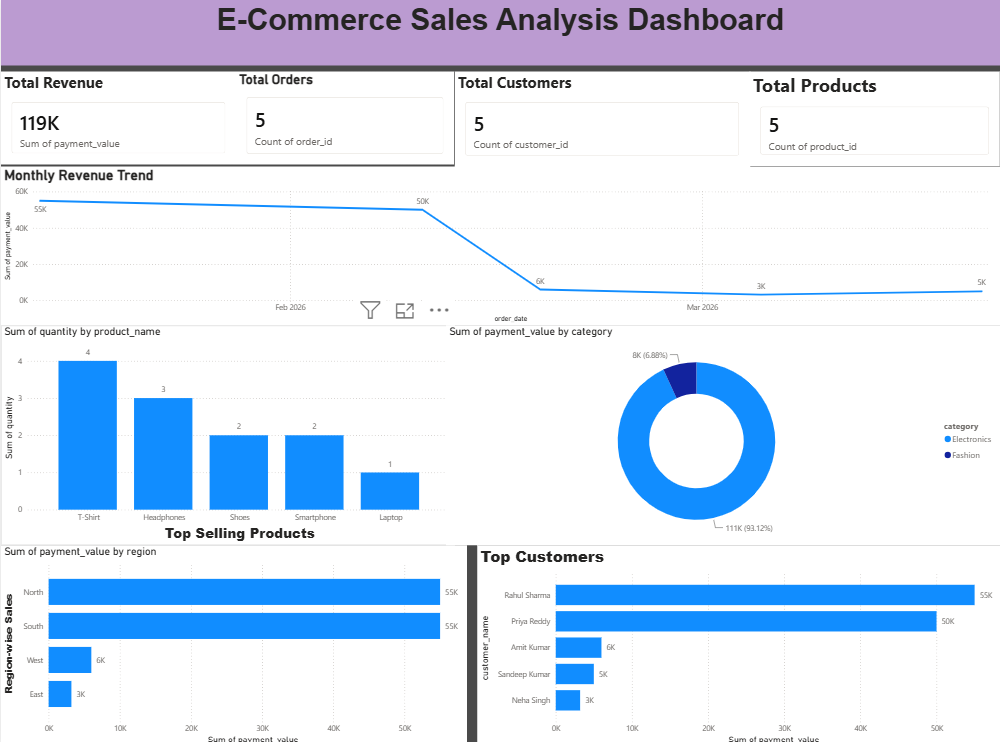

Layout of this report page (visuals, bound fields, positions):
{"tool":"powerbi","page":{"name":"DashBoard","canvas":[1600,1200],"ordinal":0},"visuals":[{"type":"lineChart","title":"Monthly Revenue Trend","fields":{"Category":["dashboard_data.order_date"],"Y":["Sum(dashboard_data.payment_value)"]},"box":[0,267.8,1600,254.2],"z":0},{"type":"cardVisual","title":"Total Revenue","fields":{"Data":["Sum(dashboard_data.payment_value)"]},"box":[0,116.6,376,148.8],"z":1000},{"type":"clusteredColumnChart","fields":{"Category":["dashboard_data.product_name"],"Y":["Sum(dashboard_data.quantity)"]},"box":[0,522.8,725.9,351.9],"z":2000},{"type":"donutChart","fields":{"Category":["dashboard_data.category"],"Y":["Sum(dashboard_data.payment_value)"]},"box":[711.8,522.8,886.7,351.9],"z":3000},{"type":"cardVisual","title":"Total Orders","fields":{"Data":["CountNonNull(dashboard_data.order_id)"]},"box":[376.3,116.9,349.2,149.2],"z":4000},{"type":"cardVisual","title":"Total Customers","fields":{"Data":["Count(dashboard_data.customer_id)"]},"box":[725.9,116.6,472.5,152.8],"z":5000},{"type":"cardVisual","title":"Total Products","fields":{"Data":["Count(dashboard_data.product_id)"]},"box":[1198.4,116.6,400.1,150.8],"z":6000},{"type":"clusteredBarChart","title":"Top Customers","fields":{"Category":["dashboard_data.customer_name"],"Y":["Sum(dashboard_data.payment_value)"]},"box":[761,874.6,839,325.4],"z":7000},{"type":"barChart","fields":{"Category":["dashboard_data.region"],"Y":["Sum(dashboard_data.payment_value)"]},"box":[0,874.6,745.8,325.4],"z":8000},{"type":"textbox","box":[0,0,1598.5,106.6],"z":8001}]}

Visuals, with their boxes in screenshot pixels (x1, y1, x2, y2), scaled from the page's 1600x1200 canvas onto the 1000x742 screenshot:
"Monthly Revenue Trend" lineChart: Rect(0, 166, 999, 323)
"Total Revenue" cardVisual: Rect(0, 72, 235, 164)
clusteredColumnChart - dashboard_data.product_name x Sum(dashboard_data.quantity): Rect(0, 323, 454, 541)
donutChart - dashboard_data.category x Sum(dashboard_data.payment_value): Rect(445, 323, 999, 541)
"Total Orders" cardVisual: Rect(235, 72, 453, 165)
"Total Customers" cardVisual: Rect(454, 72, 749, 167)
"Total Products" cardVisual: Rect(749, 72, 999, 165)
"Top Customers" clusteredBarChart: Rect(476, 541, 999, 741)
barChart - dashboard_data.region x Sum(dashboard_data.payment_value): Rect(0, 541, 466, 741)
textbox: Rect(0, 0, 999, 66)
